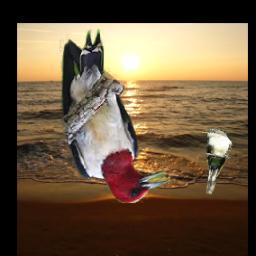Cuckoo: (202, 129, 233, 195)
Woodpecker: (59, 30, 172, 204)
